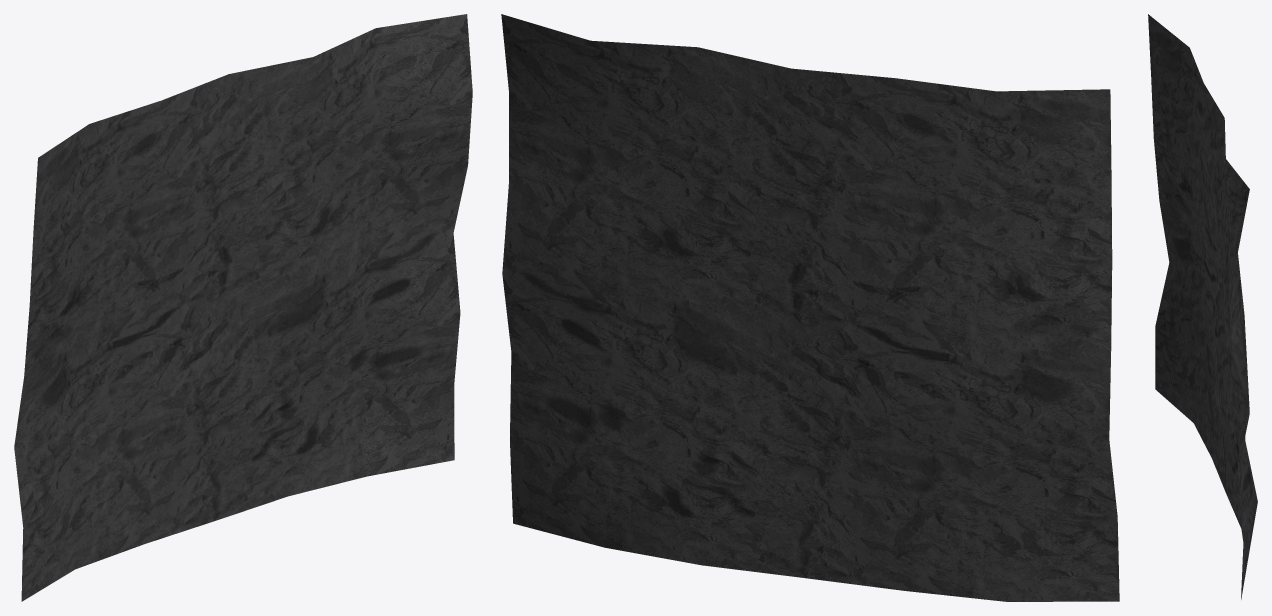
The model's file is WallCave_003.FBX.
3 renders of one model, left to right at view 1: azimuth 30°, elevation 25°; view 2: azimuth 150°, elevation 25°; view 3: azimuth 270°, elevation 25°, orthographic. The views are drawn at different scales.
Visible parts, largest first — view 1: Plane015; view 2: Plane015; view 3: Plane015.
Boxes of the visible parts, box(x1,y1,x2,y2) form: Plane015: box(14, 14, 472, 601); Plane015: box(501, 14, 1119, 601); Plane015: box(1148, 14, 1257, 599).
Size of the model in its own units: 2804 by 2475 by 630.
